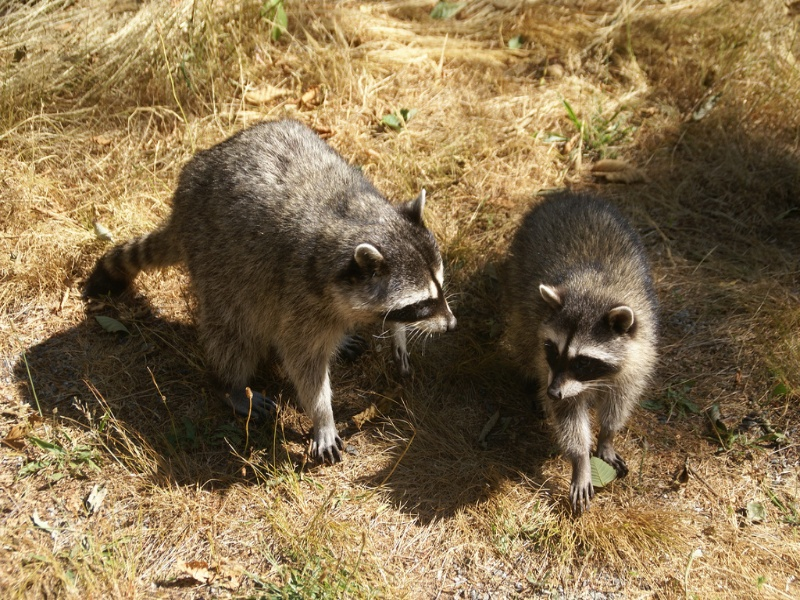raccoon: (83, 117, 473, 472), (482, 180, 661, 519)
